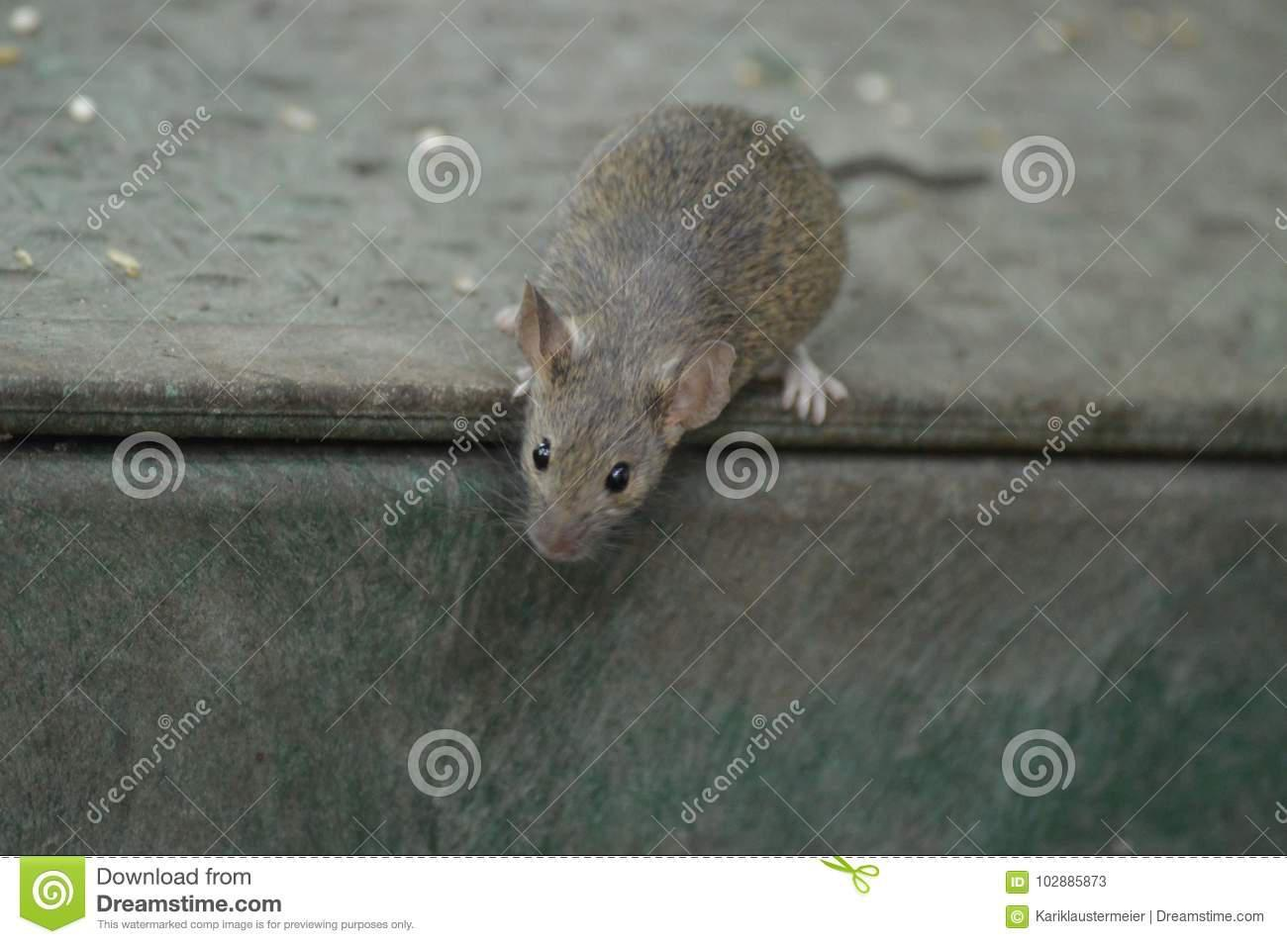rat: (518, 108, 987, 565)
